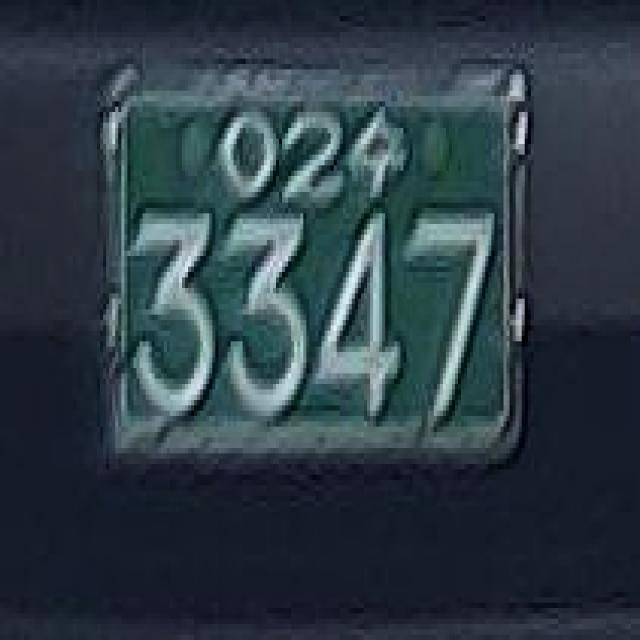illegal_plate: (88, 45, 544, 502)
